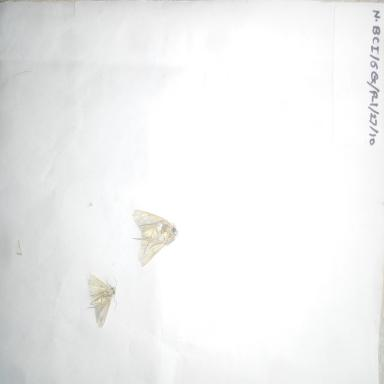abw: (130, 204, 185, 270), (82, 265, 120, 337)
